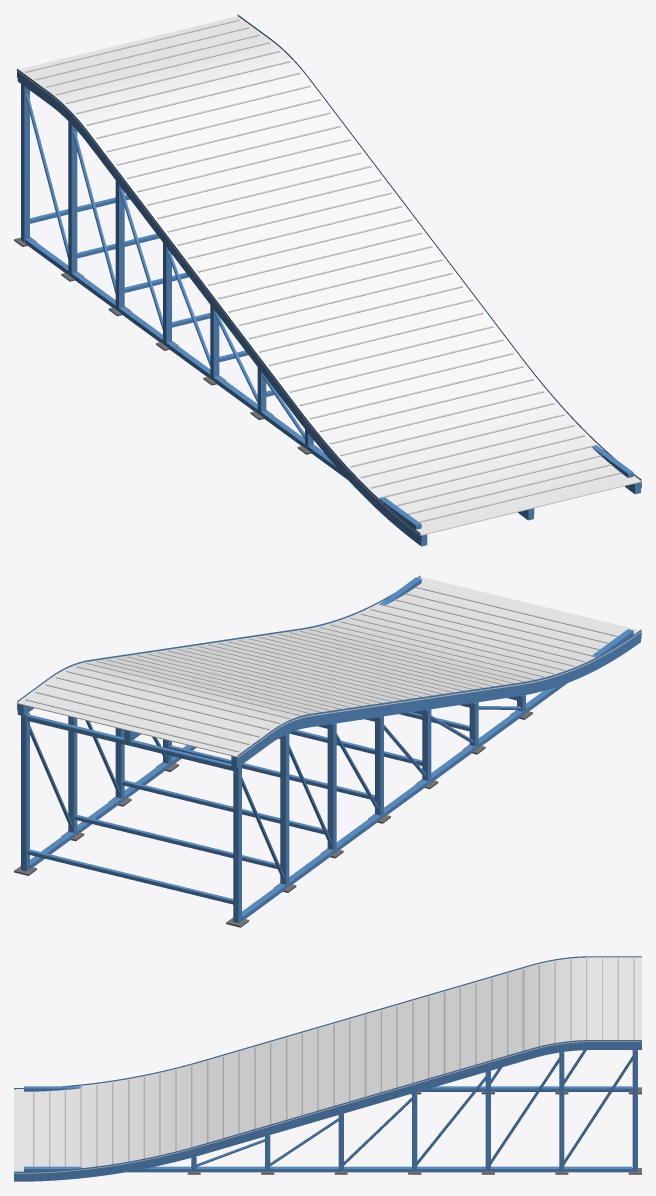
The model's file is sport.stunt.landing_xl.glb.
The picture shows the model from 3 angles, top to bottom: view 1: azimuth 30°, elevation 25°; view 2: azimuth 150°, elevation 25°; view 3: azimuth 270°, elevation 25°; orthographic projection. The views are drawn at different scales.
Visible parts, largest first — view 1: main__steel_fff, main__paint_59c, main__galv_ccc; view 2: main__steel_fff, main__paint_59c, main__galv_ccc, main__steel_777; view 3: main__steel_fff, main__paint_59c, main__galv_ccc, main__steel_777.
Boxes of the visible parts, bbox=[...] form: main__steel_fff: bbox=[16, 16, 641, 535]; main__paint_59c: bbox=[17, 14, 641, 546]; main__galv_ccc: bbox=[25, 19, 621, 522]; main__steel_fff: bbox=[16, 577, 641, 757]; main__paint_59c: bbox=[17, 575, 641, 922]; main__galv_ccc: bbox=[25, 586, 617, 752]; main__steel_777: bbox=[14, 710, 532, 927]; main__steel_fff: bbox=[14, 957, 641, 1173]; main__paint_59c: bbox=[14, 956, 641, 1181]; main__galv_ccc: bbox=[33, 958, 634, 1167]; main__steel_777: bbox=[187, 1087, 641, 1174].
Size of the model in its own units: 3.08 by 2.37 by 9.5.
